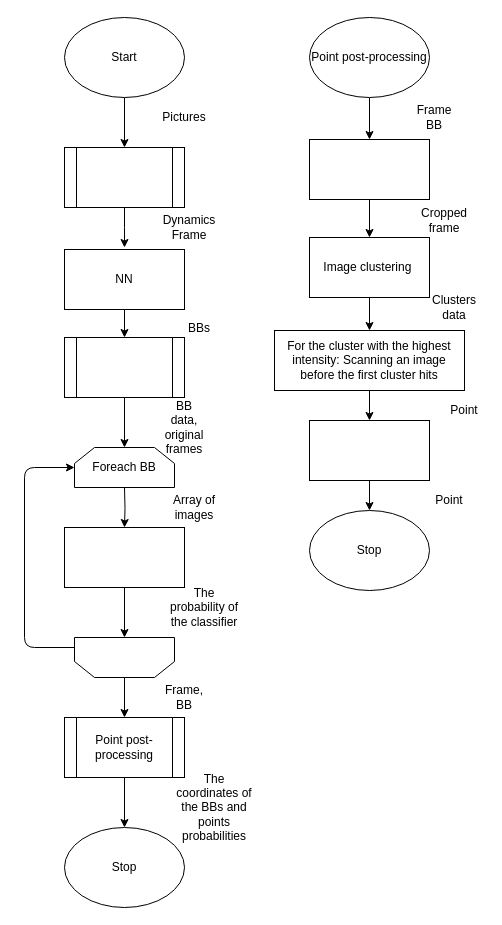
The diagram is 502 pixels wide and 925 high, and some of its shapes have lost their labels. The shapes that lost their labels are listed below. From the top down, each one's centre as x and y in pixels, then its label:
At [124,177]: "Pre-processing (Main Frame)".
At [369,169]: "Cutting a frame from an image using BB coordinates".
At [124,367]: "Post-processing of boxes (merging, clipping)".
At [369,450]: "Saving point".
At [124,557]: "NN Classificator".
